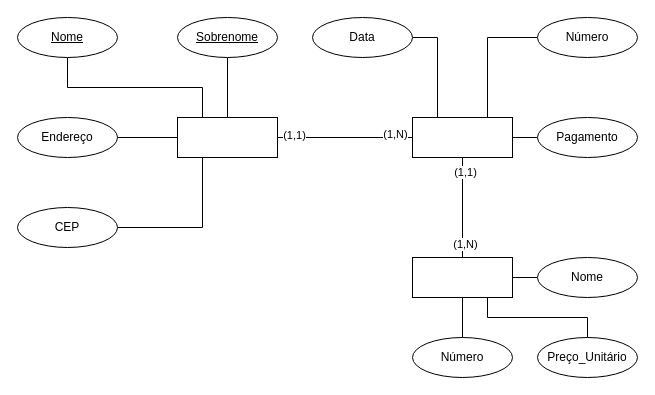
Some shapes in this 655 by 395 pixel diagram are drawn without their labels. The shapes that lost their labels are listed below. From the top down, each one's centre as x and y in pixels, then its label:
(227,137): Clientes
(462,137): Pedidos
(462,277): Produtos
